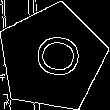O_W: (23, 33, 81, 83)
